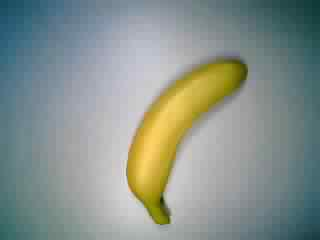banana: (129, 59, 249, 227)
